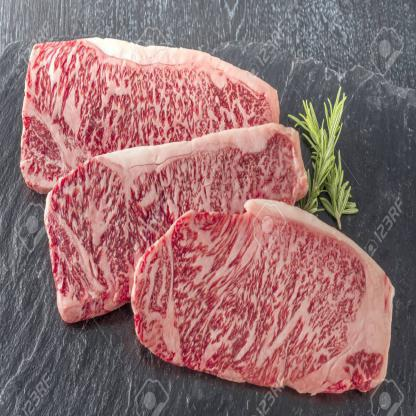beef: (15, 39, 390, 381)
